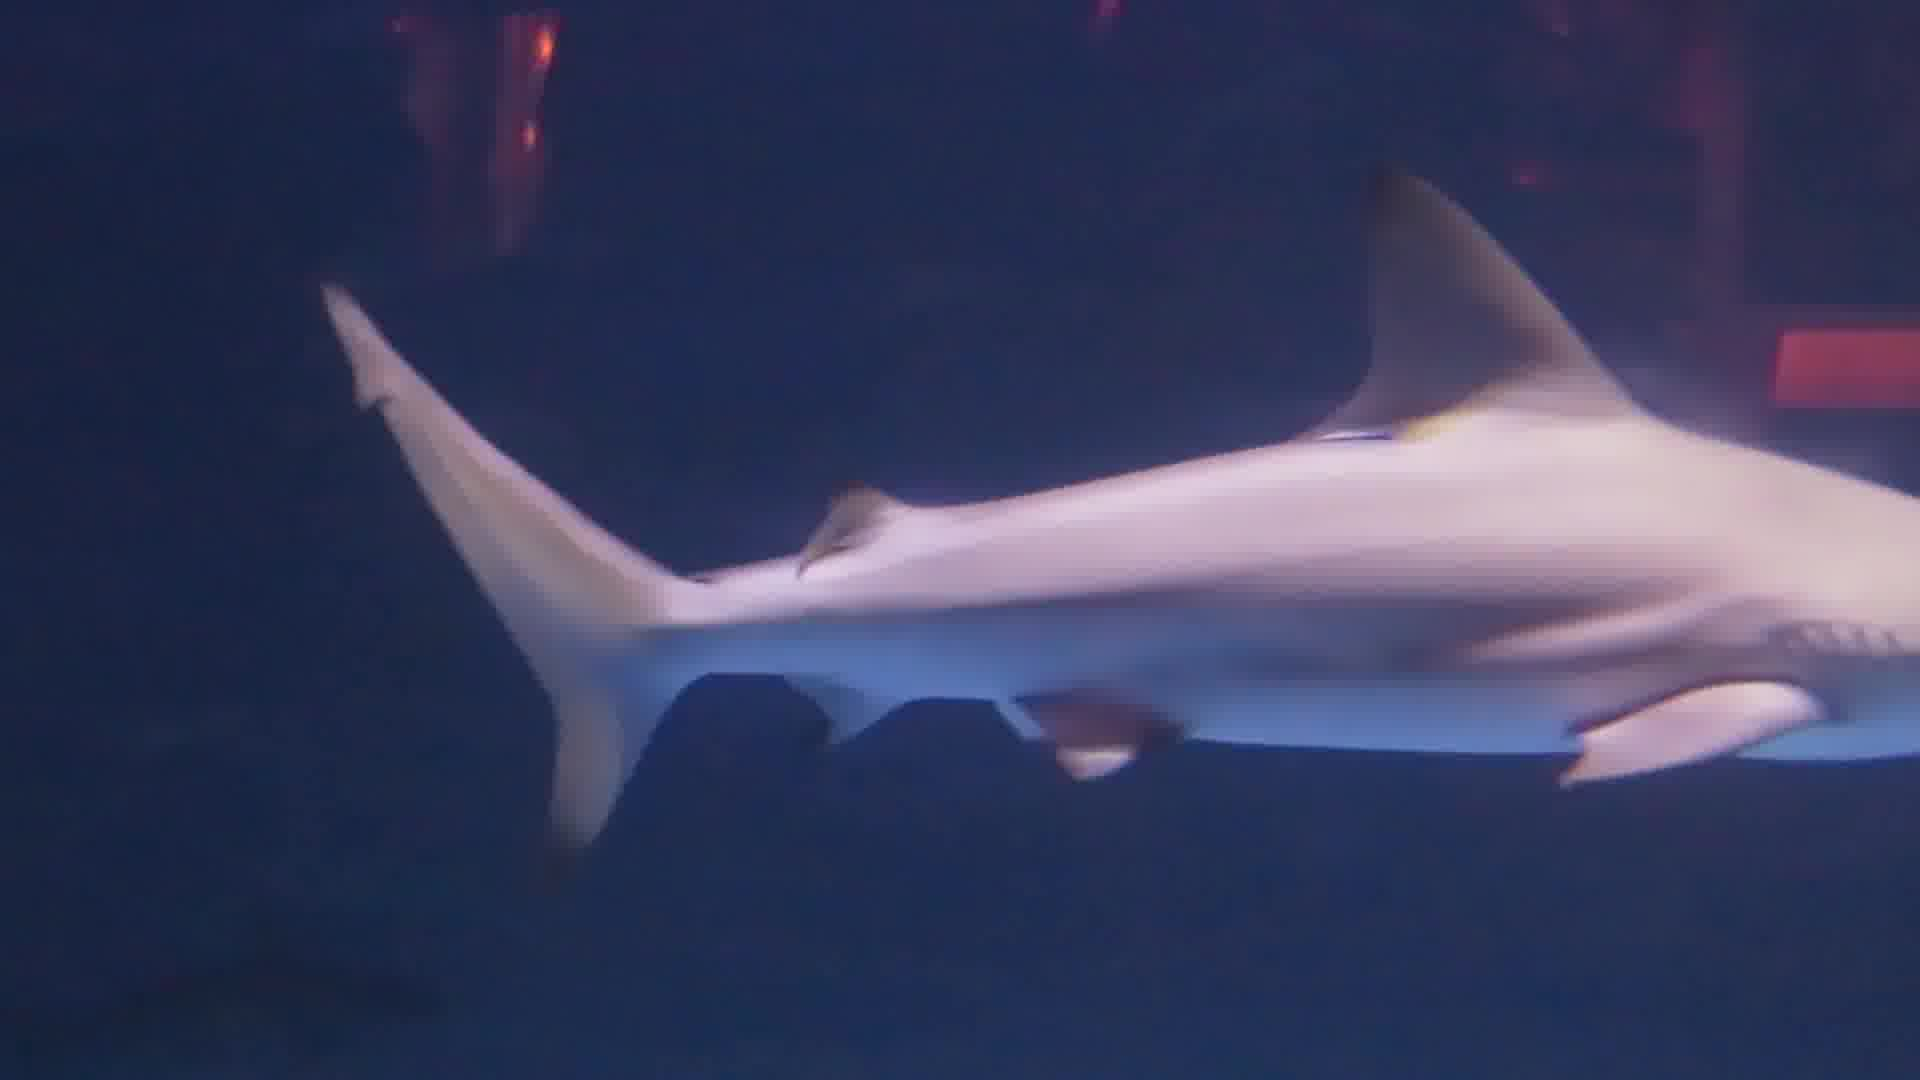Carcharhinus leucas: (303, 167, 1920, 897)
